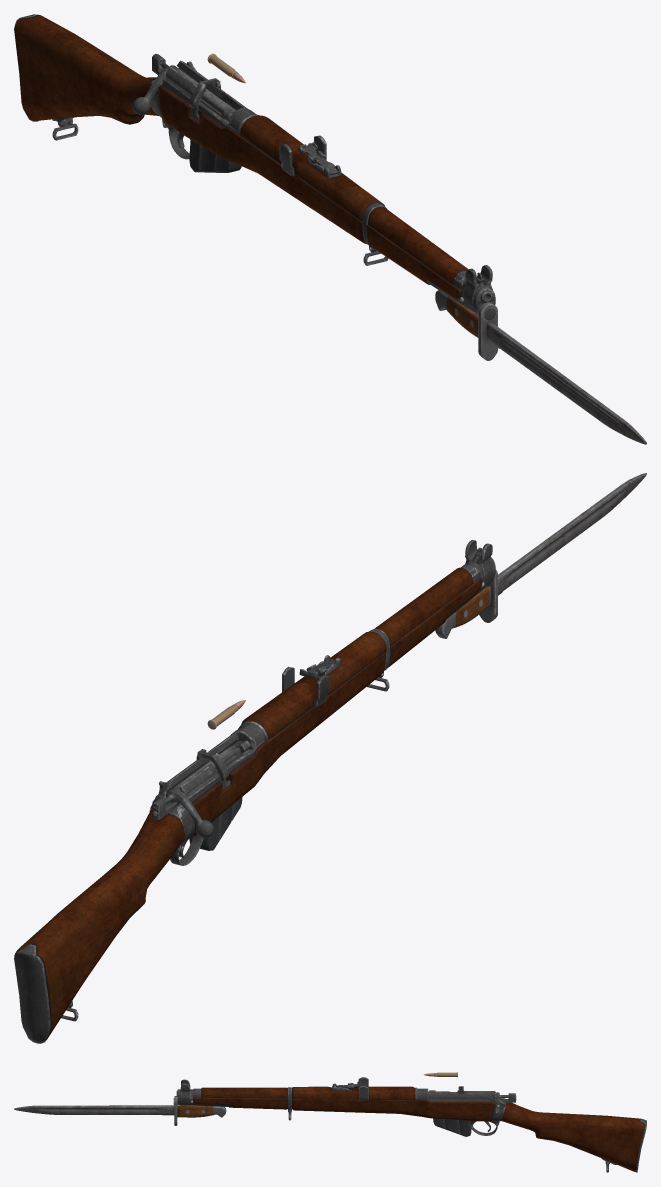
Rendered from Gun.fbx.
3 renders of one model, top to bottom at view 1: azimuth 30°, elevation 25°; view 2: azimuth 150°, elevation 25°; view 3: azimuth 270°, elevation 25°, orthographic. The views are drawn at different scales.
Visible parts, largest first — view 1: Object_5, Object_7, Object_2, Object_4; view 2: Object_5, Object_7, Object_2; view 3: Object_5, Object_7, Object_2, Object_4.
Boxes of the visible parts, <box> form: Object_5: <box>14,14,467,299</box>; Object_7: <box>14,14,496,320</box>; Object_2: <box>435,290,646,444</box>; Object_4: <box>189,139,241,172</box>; Object_5: <box>14,567,482,1040</box>; Object_7: <box>14,540,495,1043</box>; Object_2: <box>435,473,646,638</box>; Object_5: <box>193,1086,645,1171</box>; Object_7: <box>173,1077,646,1172</box>; Object_2: <box>14,1096,226,1125</box>; Object_4: <box>433,1118,471,1136</box>.
Bounding box in the file's own units: 1.11 × 20.11 × 3.5.
6 materials, 6 textured.
